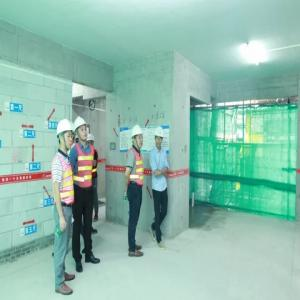white: (57, 120, 74, 151), (75, 117, 90, 144), (132, 127, 145, 151), (156, 127, 165, 147), (87, 134, 96, 149)
